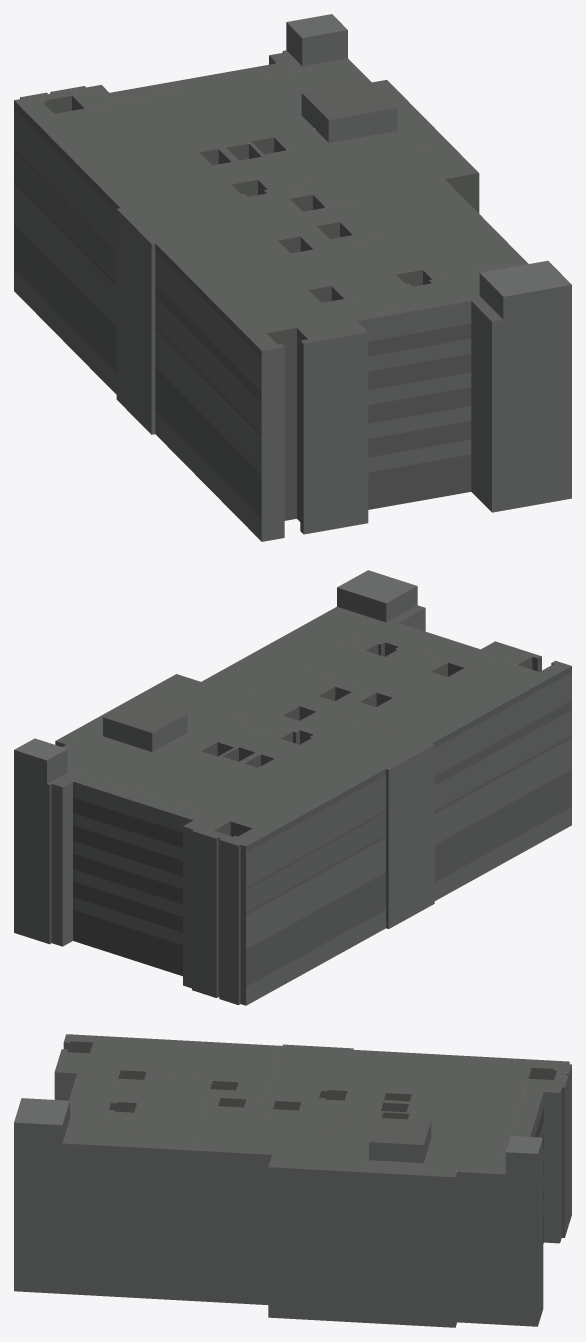
Rendered from t_2_-2.far.glb.
3 views of the same model, one above another, from view 1: azimuth 30°, elevation 25°; view 2: azimuth 150°, elevation 25°; view 3: azimuth 270°, elevation 25° (orthographic). The views are drawn at different scales.
Visible parts, largest first — view 1: opaque; view 2: opaque; view 3: opaque.
Part boxes in pixels (x1,y1,x2,y2): opaque: [14, 14, 571, 541]; opaque: [14, 570, 571, 1005]; opaque: [14, 1034, 571, 1327].
Size of the model in its own units: 52.08 by 29.3 by 85.75.
1 material, 1 textured.
